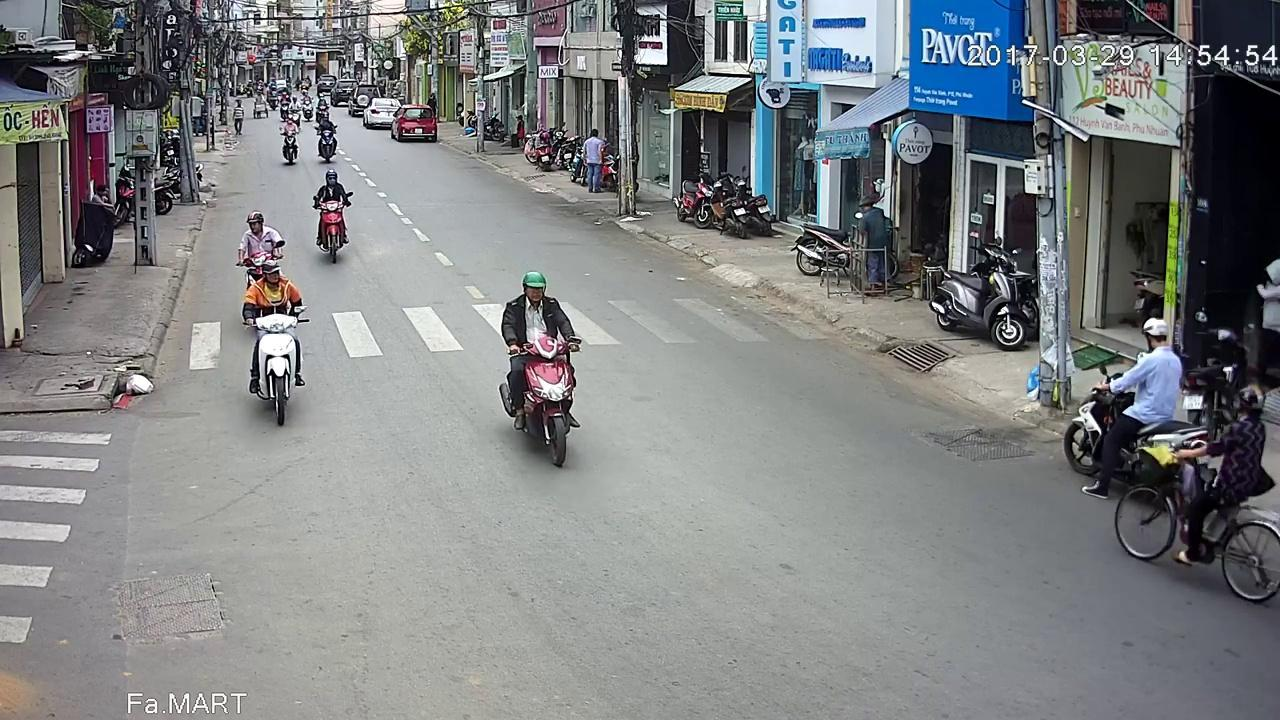xe dap: (1114, 385, 1280, 607)
xe hoi: (388, 101, 435, 140)
xe may: (1072, 315, 1220, 499), (493, 268, 579, 465), (236, 263, 305, 431), (314, 168, 357, 264), (237, 211, 289, 289), (317, 117, 344, 172), (280, 121, 303, 171)
